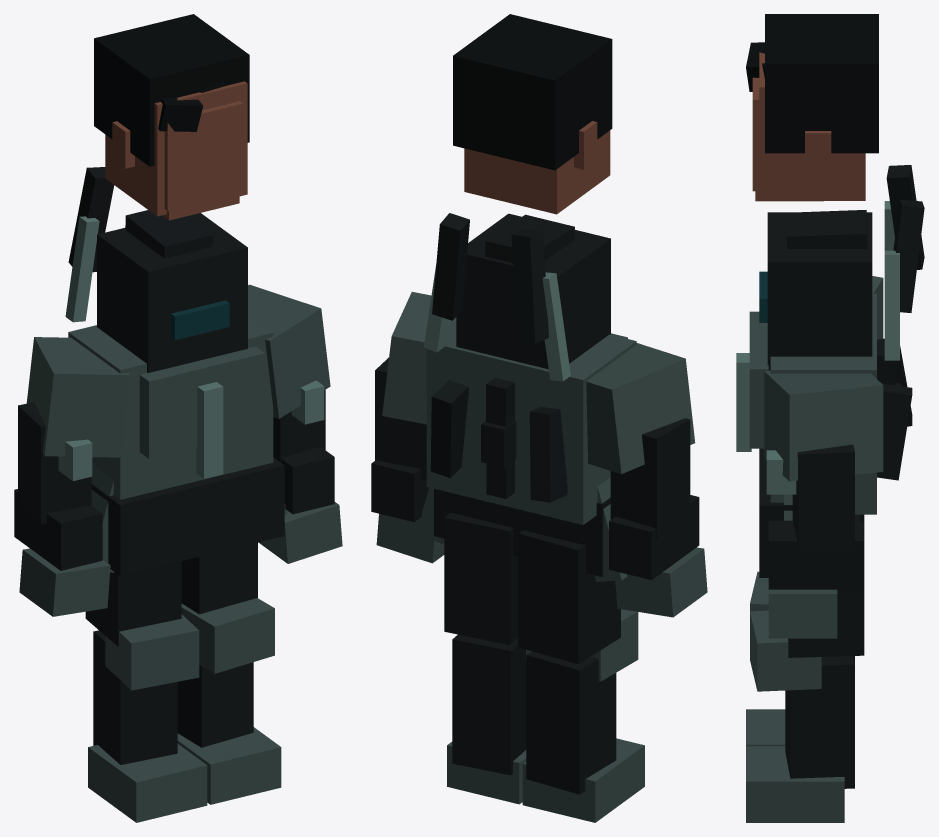
Rendered from Warframe1999_Protoframe_LowPoly_v2.obj.
The picture shows the model from 3 angles, left to right: view 1: azimuth 30°, elevation 25°; view 2: azimuth 150°, elevation 25°; view 3: azimuth 270°, elevation 25°; orthographic projection. The views are drawn at different scales.
Size of the model in its own units: 1.8 by 4.34 by 0.9898.
